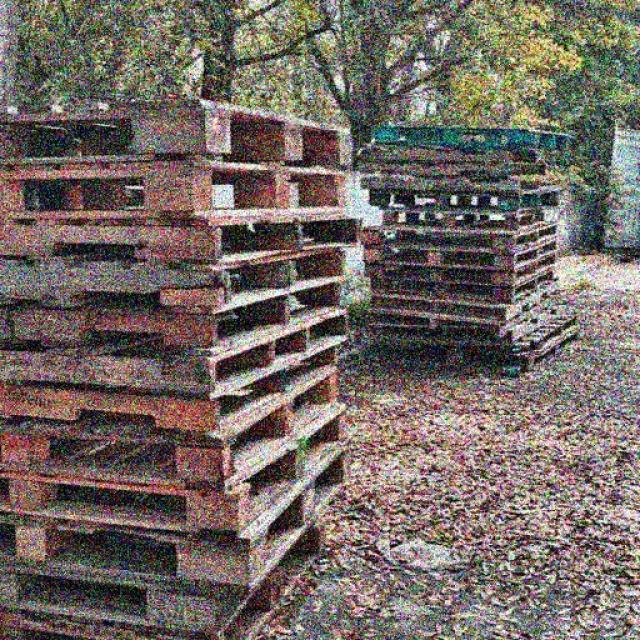non-igps: (0, 434, 357, 592), (0, 396, 356, 540), (0, 356, 351, 499), (0, 495, 330, 640), (0, 334, 345, 444), (0, 261, 356, 365), (0, 301, 356, 405), (0, 228, 372, 324), (0, 94, 365, 175), (0, 148, 351, 232), (0, 201, 372, 276), (358, 308, 587, 382), (364, 299, 571, 354), (368, 272, 569, 328), (358, 244, 564, 294), (366, 262, 562, 311), (368, 116, 580, 161), (358, 230, 564, 276), (356, 221, 564, 262), (362, 182, 568, 219), (374, 197, 566, 236), (358, 135, 554, 170), (357, 171, 571, 203), (359, 155, 553, 185)
